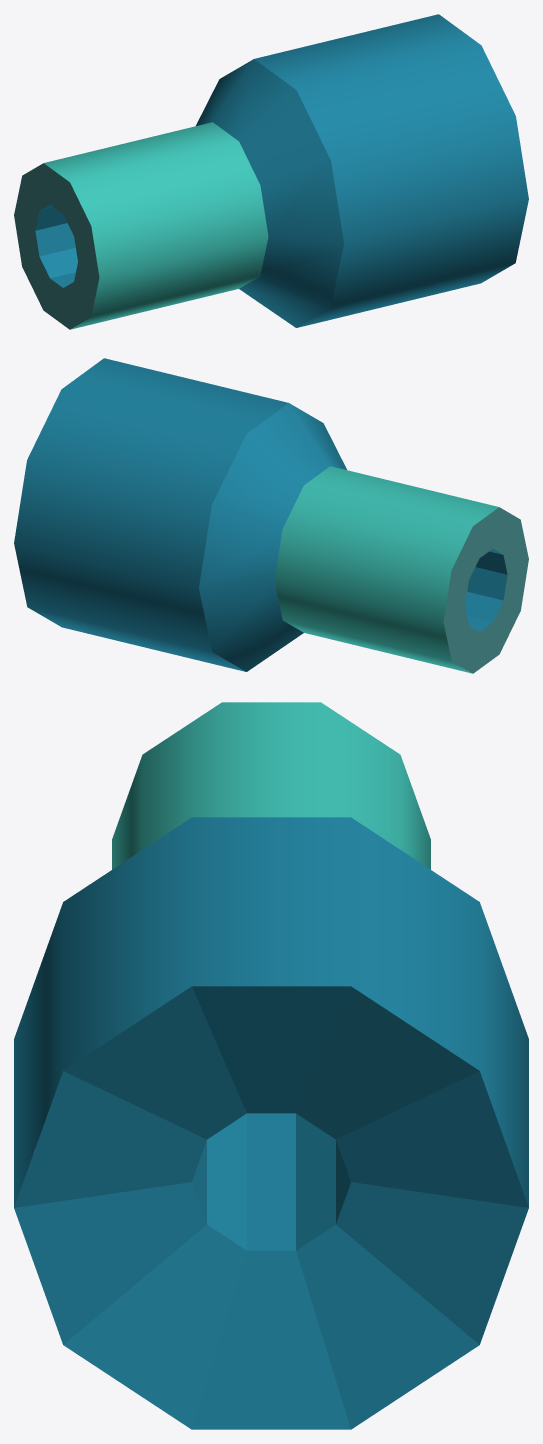
The model's file is BlueTurret.obj.
3 renders of one model, top to bottom at view 1: azimuth 30°, elevation 25°; view 2: azimuth 150°, elevation 25°; view 3: azimuth 270°, elevation 25°, orthographic. The views are drawn at different scales.
Visible parts, largest first — view 1: polySurface1; view 2: polySurface1; view 3: polySurface1.
Part boxes in pixels (x1=…): polySurface1: x1=14, y1=14, x2=528, y2=329; polySurface1: x1=14, y1=358, x2=528, y2=673; polySurface1: x1=14, y1=702, x2=528, y2=1429.
Size of the model in its own units: 0.9476 by 0.5345 by 0.5613.
